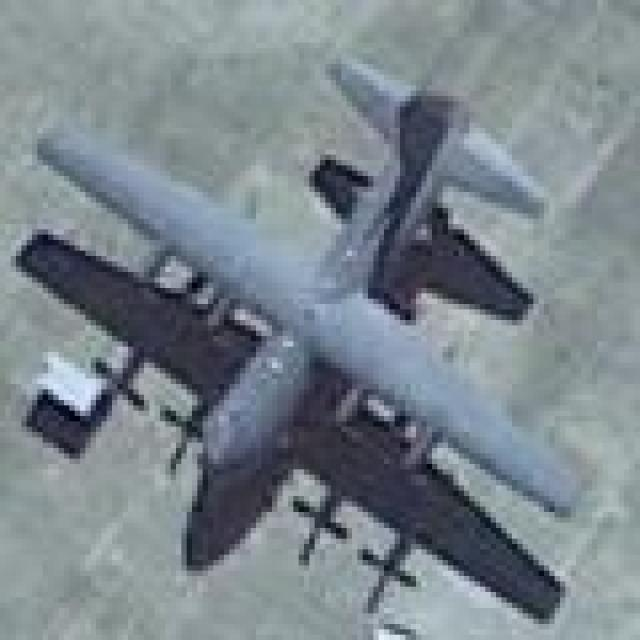C-130_TopDown: (4, 45, 592, 622)
